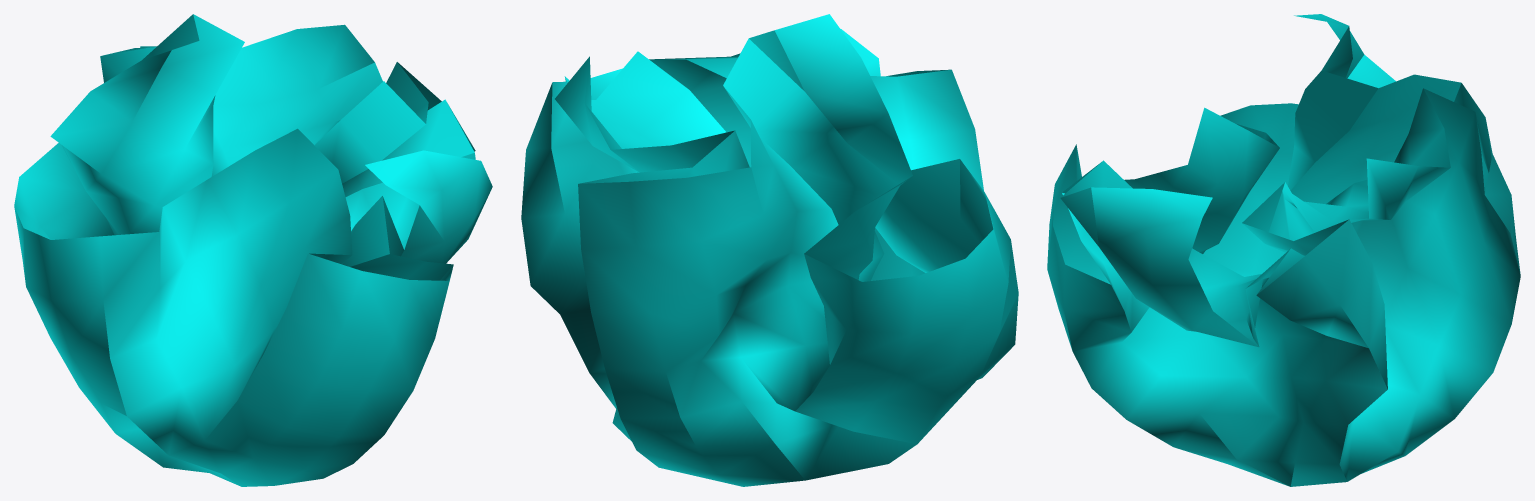
File: CandyWrapper002.glb
The picture shows the model from 3 angles, left to right: view 1: azimuth 30°, elevation 25°; view 2: azimuth 150°, elevation 25°; view 3: azimuth 270°, elevation 25°; orthographic projection. The views are drawn at different scales.
Parts seen in each view (by area): view 1: CandyWrapper002; view 2: CandyWrapper002; view 3: CandyWrapper002.
Part boxes in pixels (x1,y1,x2,y2): CandyWrapper002: (14, 14, 492, 486); CandyWrapper002: (521, 14, 1018, 486); CandyWrapper002: (1047, 14, 1520, 486).
Bounding box in the file's own units: 0.2295 × 0.2274 × 0.2283.
